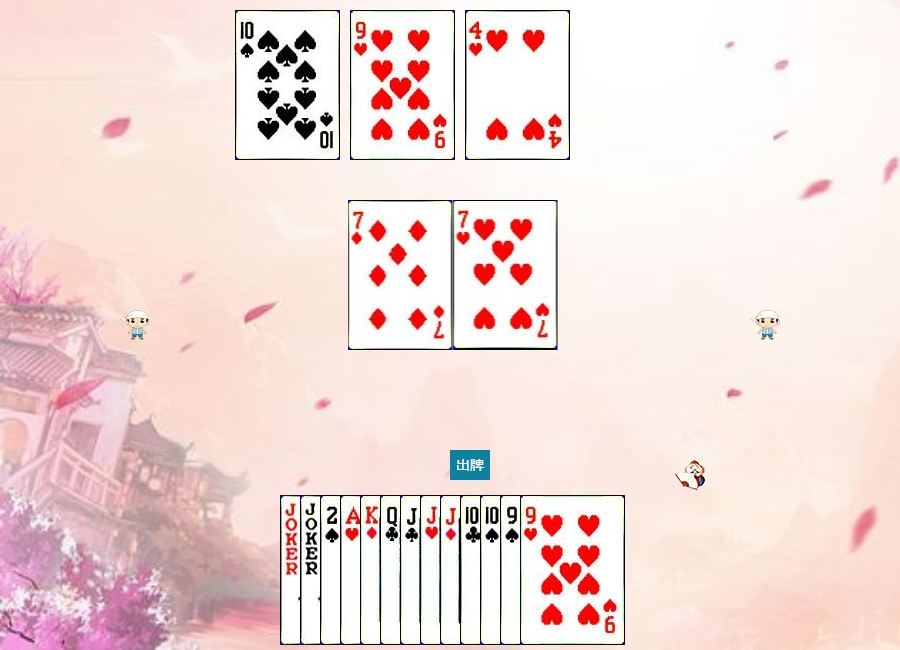10~2: (460, 495, 565, 645)
10~4: (235, 10, 340, 160), (480, 495, 585, 645)
11~1: (440, 495, 545, 645)
11~2: (400, 495, 505, 645)
11~3: (420, 495, 525, 645)
12~2: (380, 495, 485, 645)
13~1: (360, 495, 465, 645)
14~3: (340, 495, 445, 645)
15~4: (320, 495, 425, 645)
17~3: (300, 495, 405, 645)
18~4: (280, 495, 385, 645)
4~3: (465, 10, 570, 160)
7~1: (348, 200, 453, 350)
7~3: (453, 200, 558, 350)
9~3: (350, 10, 455, 160), (520, 495, 625, 645)
9~4: (500, 495, 605, 645)
